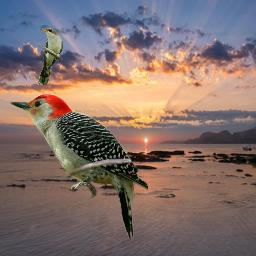Cuckoo: (38, 28, 63, 85)
Woodpecker: (10, 93, 148, 240)
